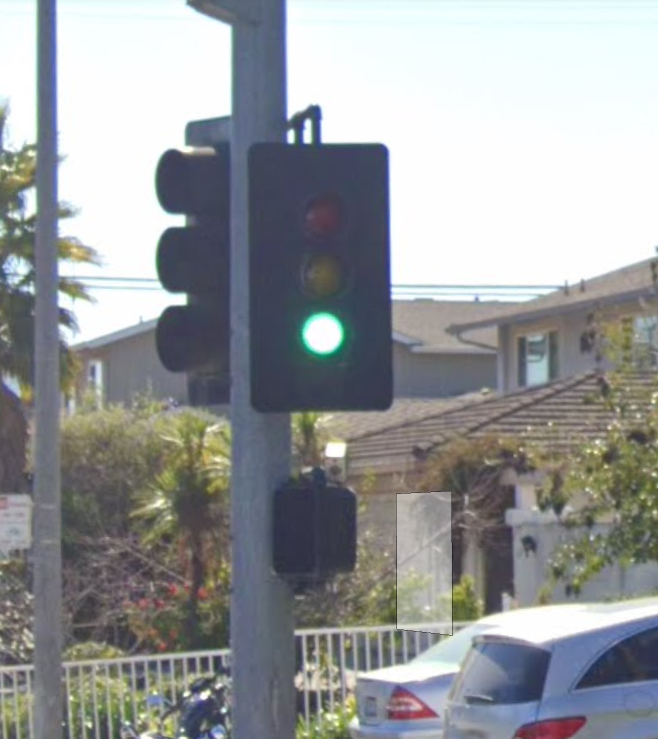green_light: (261, 154, 383, 407)
